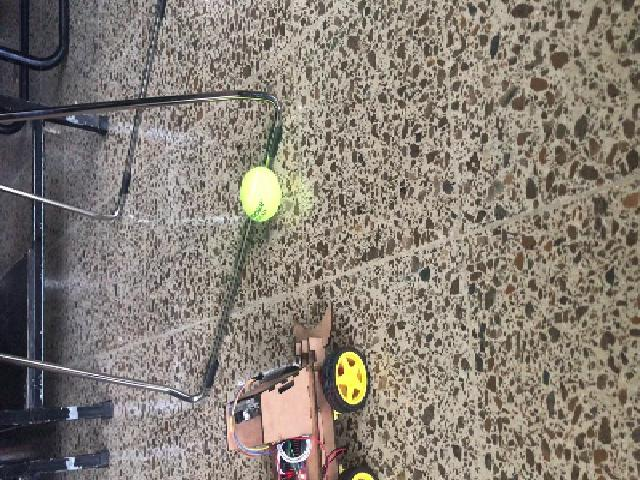Ball: (238, 166, 282, 222)
Robot: (222, 301, 376, 479)
